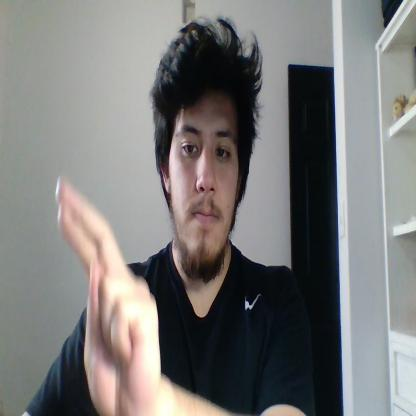R: (57, 176, 160, 416)
